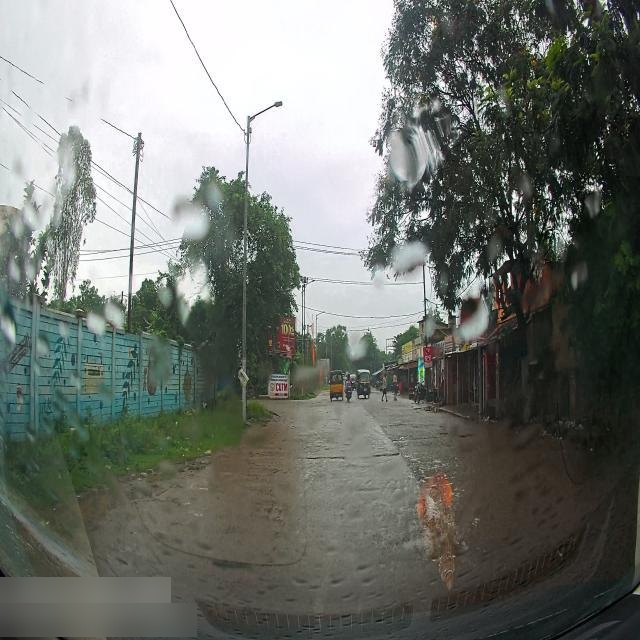pothole: (257, 496, 287, 526), (304, 454, 348, 466)
